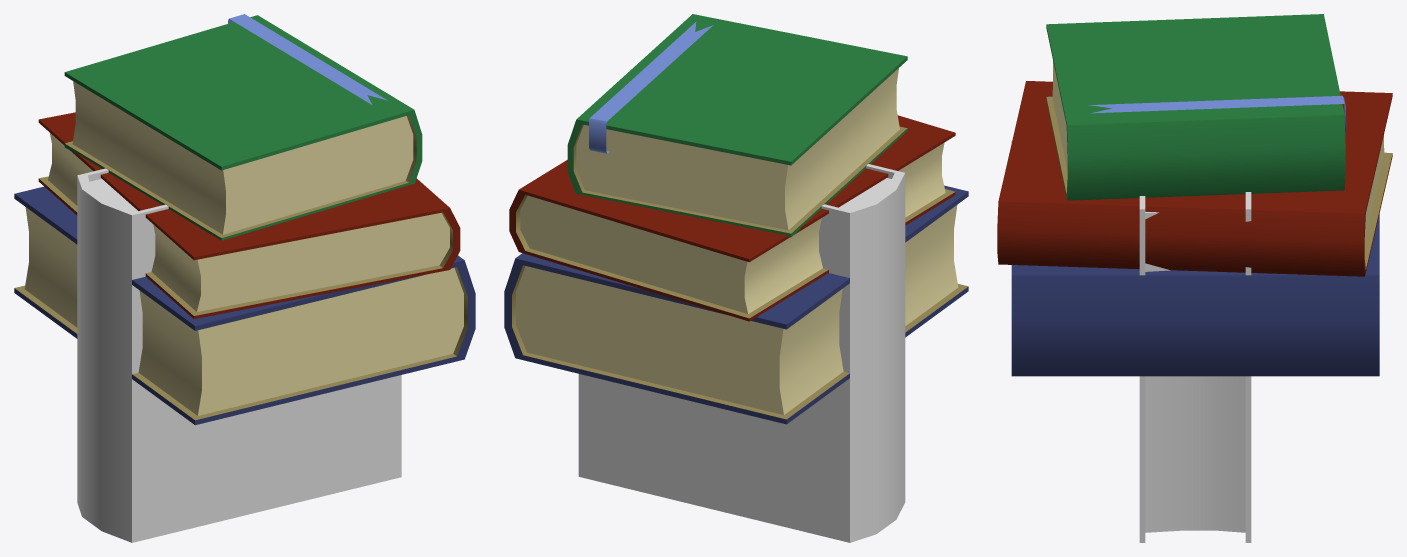
File: Pile of Books.fbx
3 views of the same model, side by side, from view 1: azimuth 30°, elevation 25°; view 2: azimuth 150°, elevation 25°; view 3: azimuth 270°, elevation 25° (orthographic).
Parts seen in each view (by area): view 1: Book 1.002, Book 2, Book 1, Book 1.001; view 2: Book 2, Book 1.002, Book 1, Book 1.001; view 3: Book 1.002, Book 1, Book 1.001, Book 2.
Part boxes in pixels (x1,y1,x2,y2): Book 1.002: (64,14,422,240); Book 2: (77,168,401,542); Book 1: (14,186,475,425); Book 1.001: (38,112,460,318); Book 2: (578,164,905,542); Book 1.002: (567,14,907,237); Book 1: (504,185,968,424); Book 1.001: (509,115,955,321); Book 1.002: (1046,14,1346,200); Book 1: (1011,141,1379,376); Book 1.001: (997,81,1392,276); Book 2: (1139,192,1251,542).
Size of the model in its own units: 620 by 813 by 709.
